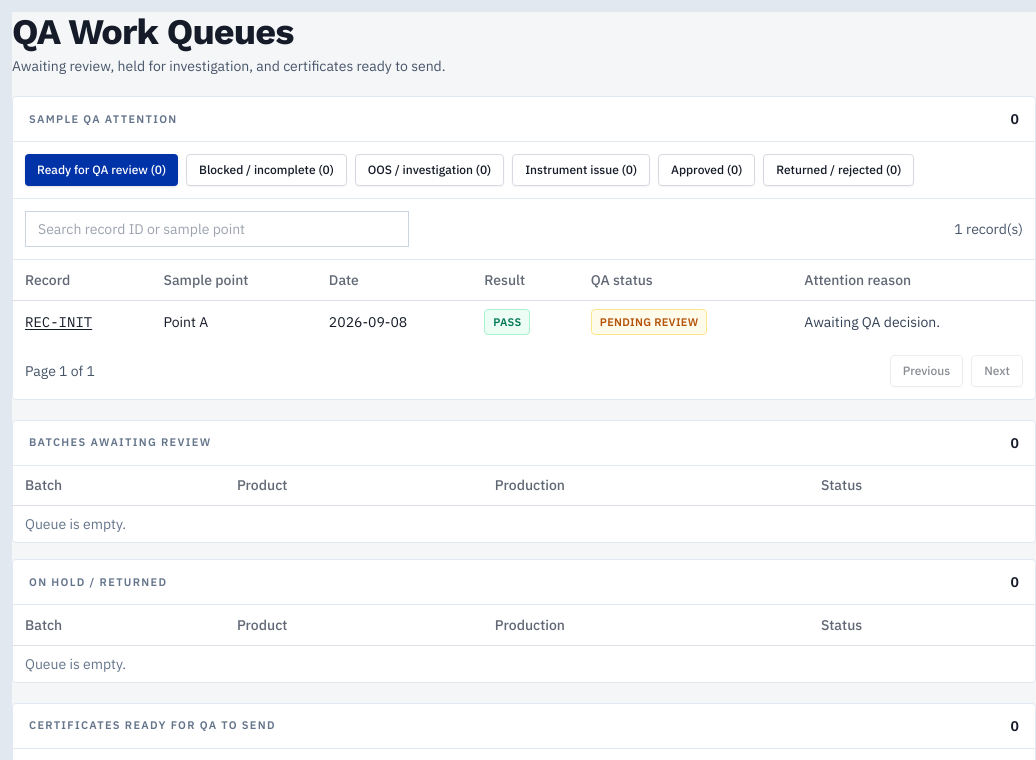
Test: QAQueues component › ignores a stale response that resolves after a newer one (out-of-order)
Expected: the row with test id "sample-qa-queue-row-REC-INIT" is shown, [13,300,1035,342]
# Two rapid searches → requests #1 then #2 (latest is #2).
Type "A" into the search field with test id "sample-qa-search-input" at (217, 229), box [25,211,409,247]
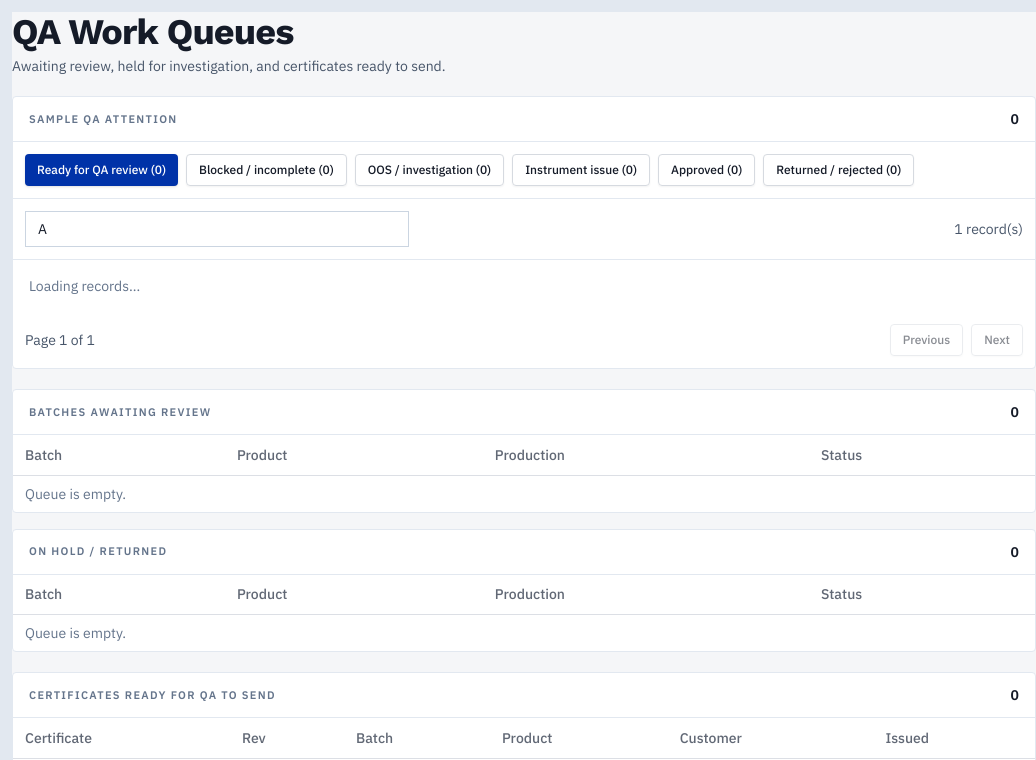
Replace the text in the search field with test id "sample-qa-search-input" with "AB" at (217, 229), box [25,211,409,247]
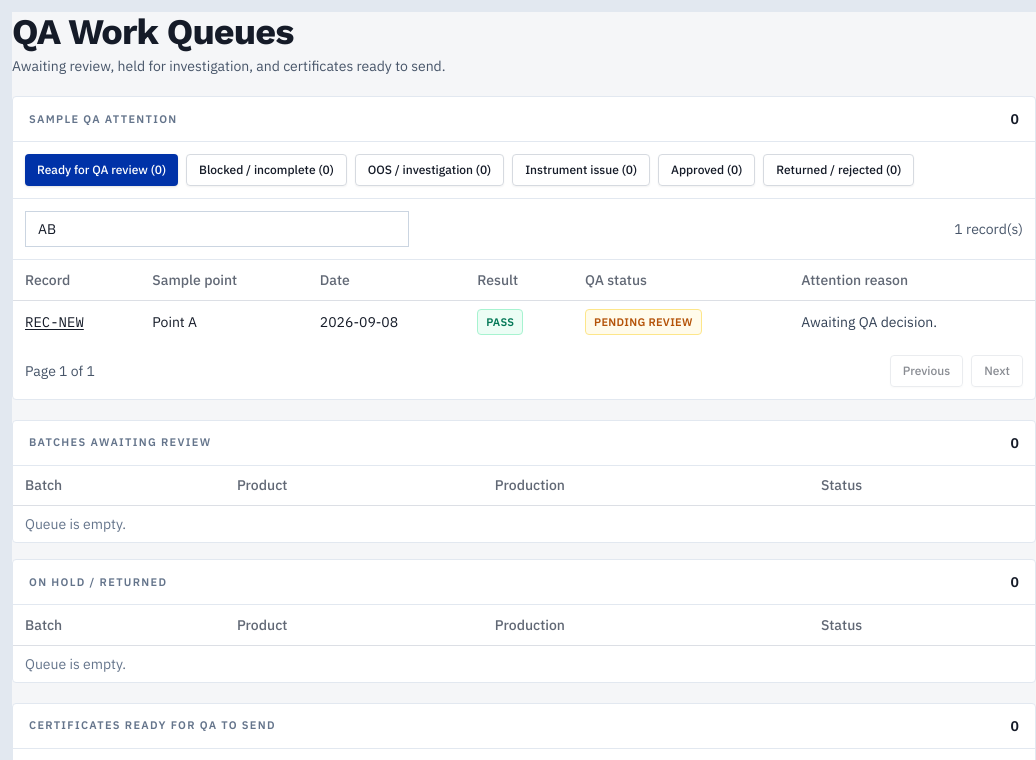
Expected: the row with test id "sample-qa-queue-row-REC-NEW" is shown, [13,300,1035,342]
